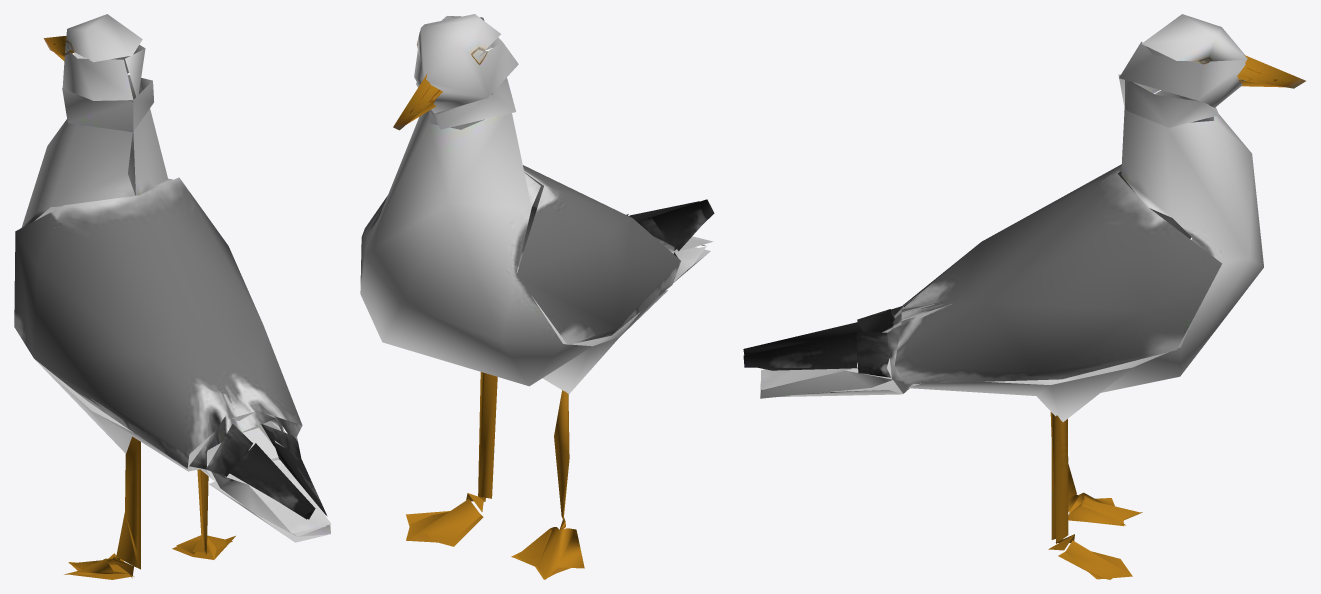
The model's file is gull_lo.glb.
3 views of the same model, side by side, from view 1: azimuth 30°, elevation 25°; view 2: azimuth 150°, elevation 25°; view 3: azimuth 270°, elevation 25° (orthographic). The views are drawn at different scales.
Parts seen in each view (by area): view 1: gull_lo; view 2: gull_lo; view 3: gull_lo.
Part boxes in pixels (box(x1,y1,x2,y2)): gull_lo: box(14, 14, 331, 579); gull_lo: box(360, 14, 714, 579); gull_lo: box(743, 14, 1305, 579).
Bounding box in the file's own units: 0.2453 × 0.5678 × 0.5586.
1 material, 1 textured.
